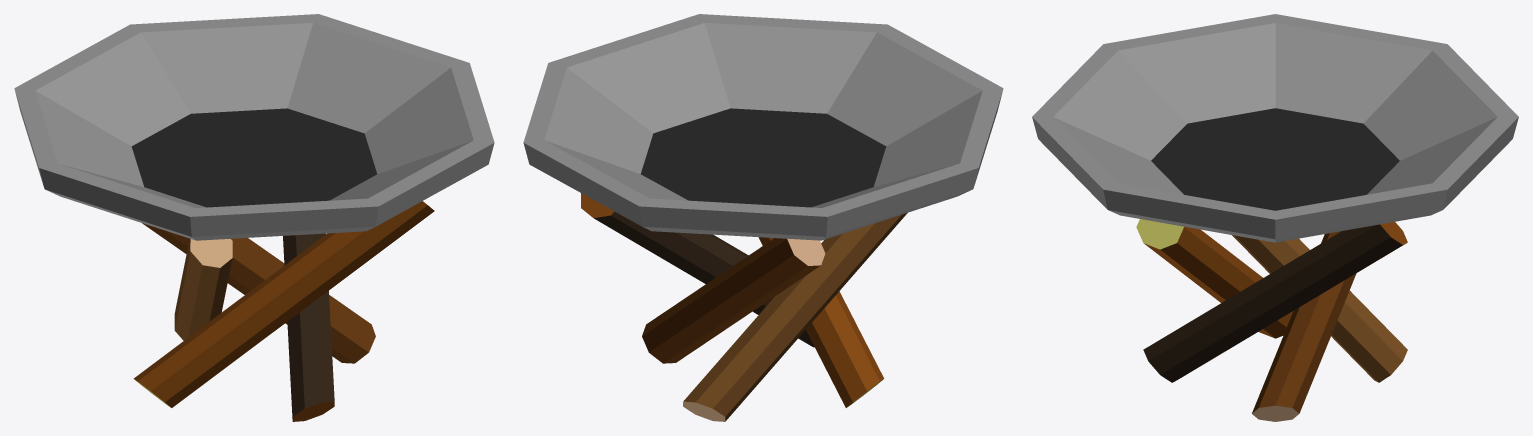
Rendered from hearth.fbx.
3 views of the same model, side by side, from view 1: azimuth 30°, elevation 25°; view 2: azimuth 150°, elevation 25°; view 3: azimuth 270°, elevation 25° (orthographic). The views are drawn at different scales.
Parts seen in each view (by area): view 1: hearth, Cylinder.001; view 2: hearth, Cylinder.001; view 3: hearth, Cylinder.001.
Part boxes in pixels (bbox=[...]): hearth: bbox=[14, 14, 494, 240]; Cylinder.001: bbox=[133, 201, 434, 421]; hearth: bbox=[523, 14, 1003, 240]; Cylinder.001: bbox=[581, 193, 907, 421]; hearth: bbox=[1032, 14, 1518, 242]; Cylinder.001: bbox=[1136, 219, 1407, 421].
Bounding box in the file's own units: 211 × 126 × 211.
